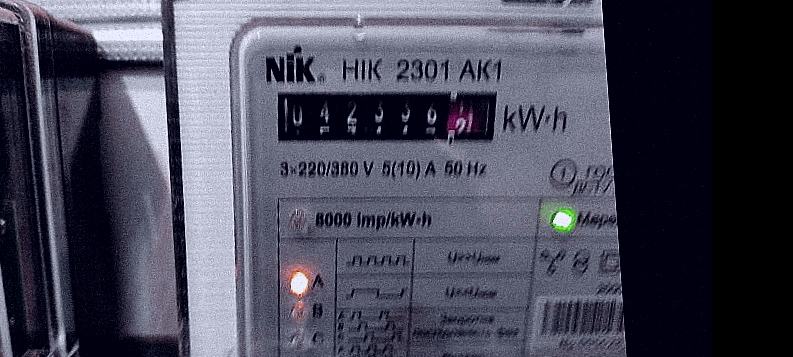0: (289, 98, 304, 128)
2: (341, 96, 361, 125)
3: (368, 95, 386, 125), (397, 94, 413, 123)
4: (315, 97, 333, 125)
6: (422, 98, 439, 126)
screen: (263, 67, 508, 165)
